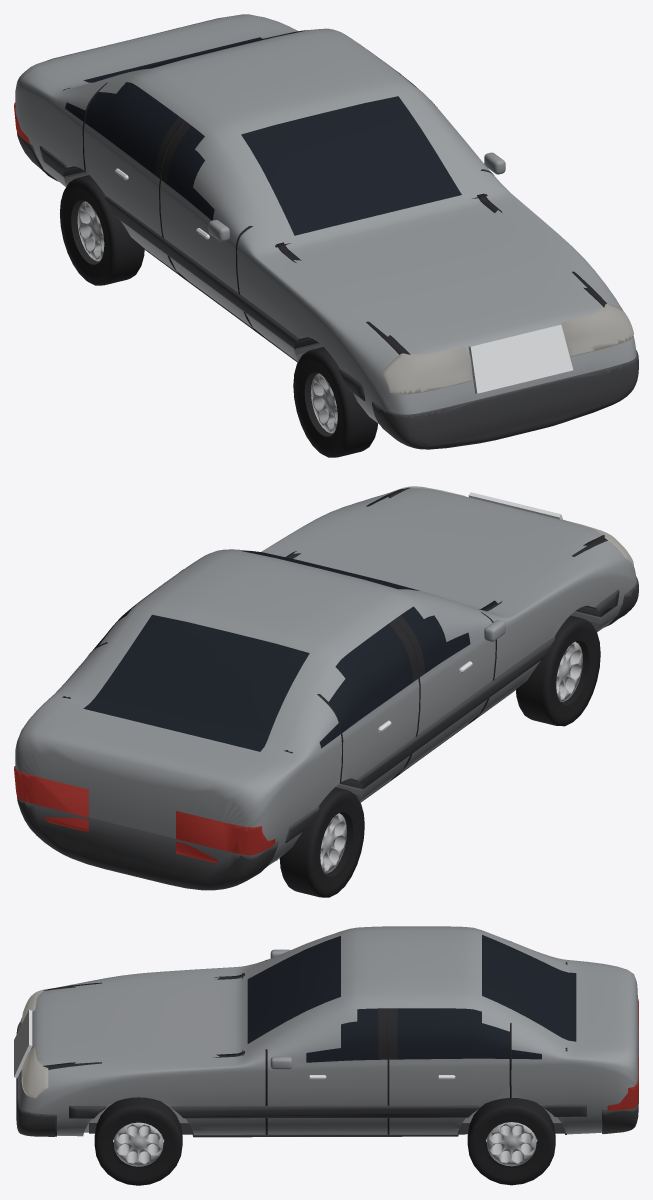
The picture shows the model from 3 angles, top to bottom: view 1: azimuth 30°, elevation 25°; view 2: azimuth 150°, elevation 25°; view 3: azimuth 270°, elevation 25°; orthographic projection. The views are drawn at different scales.
Parts seen in each view (by area): view 1: Body, Wheel_RR, Wheel_FR; view 2: Body, Wheel_RR, Wheel_FR; view 3: Body, Wheel_FL, Wheel_RL.
Part boxes in pixels (x1,y1,x2,y2): Body: [14, 14, 638, 449]; Wheel_RR: [60, 175, 144, 285]; Wheel_FR: [293, 347, 377, 457]; Body: [14, 486, 638, 890]; Wheel_RR: [279, 787, 364, 897]; Wheel_FR: [516, 615, 600, 726]; Body: [14, 926, 638, 1137]; Wheel_FL: [94, 1097, 182, 1185]; Wheel_RL: [467, 1098, 555, 1185].
Size of the model in its own units: 1.89 by 1.41 by 4.51.
